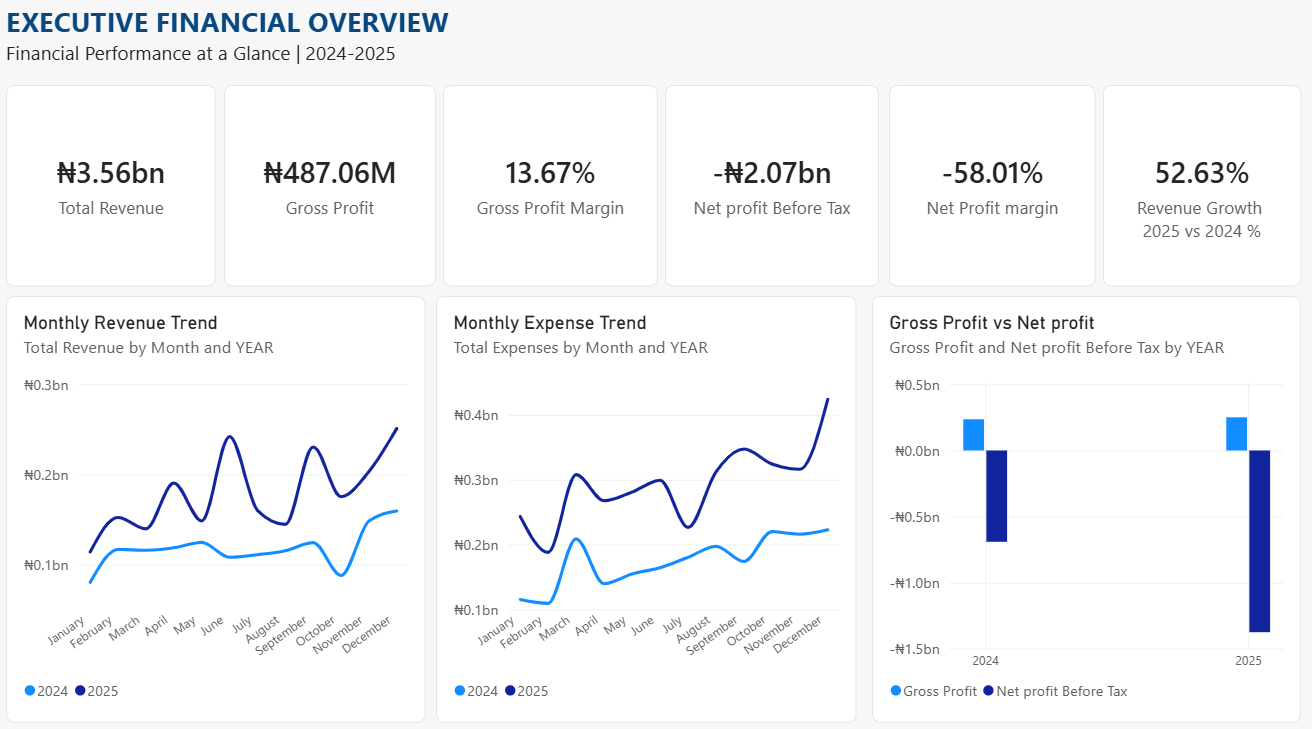

What the dashboard file says about the page in this screenshot:
{"tool":"powerbi","page":{"name":"Executive Dashboard","canvas":[1280,720],"ordinal":1},"visuals":[{"type":"card","fields":{"Values":["FactFinancialTransactions.Total Revenue"]},"box":[5.8,91.4,204.3,195.5],"z":0},{"type":"card","fields":{"Values":["FactFinancialTransactions.Net profit Before Tax"]},"box":[646.8,91.4,208.1,195.5],"z":1000},{"type":"card","fields":{"Values":["FactFinancialTransactions.Gross Profit"]},"box":[217.9,91.4,206.2,195.5],"z":2000},{"type":"card","fields":{"Values":["FactFinancialTransactions.Gross Profit Margin"]},"box":[430.9,91.4,209.1,195.5],"z":3000},{"type":"card","fields":{"Values":["FactFinancialTransactions.Net Profit margin"]},"box":[864.7,91.4,201.3,195.5],"z":4000},{"type":"lineChart","title":"Monthly Revenue Trend","fields":{"Category":["DimDate.Month"],"Series":["DimDate.YEAR"],"Y":["FactFinancialTransactions.Total Revenue"]},"box":[5.8,296.7,408,415],"z":5000},{"type":"lineChart","title":"Monthly Expense Trend","fields":{"Category":["DimDate.Month"],"Series":["DimDate.YEAR"],"Y":["FactFinancialTransactions.Total Expenses"]},"box":[424.1,296.7,409,415],"z":6000},{"type":"clusteredColumnChart","title":"Gross Profit vs Net profit","fields":{"Category":["DimDate.YEAR"],"Y":["FactFinancialTransactions.Gross Profit","FactFinancialTransactions.Net profit Before Tax"]},"box":[848.1,296.7,417,415],"z":7000},{"type":"card","fields":{"Values":["FactFinancialTransactions.Revenue Growth 2025 vs 2024 %"]},"box":[1072.8,91.4,192.6,195.5],"z":8000},{"type":"textbox","box":[5.8,10.7,570,80.7],"z":9000}]}

Visuals, with their boxes in screenshot pixels (x1, y1, x2, y2), scaled from the page's 1280x720 canvas onto the 1312x729 screenshot:
card - FactFinancialTransactions.Total Revenue: 6/93/215/290
card - FactFinancialTransactions.Net profit Before Tax: 663/93/876/290
card - FactFinancialTransactions.Gross Profit: 223/93/435/290
card - FactFinancialTransactions.Gross Profit Margin: 442/93/656/290
card - FactFinancialTransactions.Net Profit margin: 886/93/1093/290
"Monthly Revenue Trend" lineChart: 6/300/424/721
"Monthly Expense Trend" lineChart: 435/300/854/721
"Gross Profit vs Net profit" clusteredColumnChart: 869/300/1297/721
card - FactFinancialTransactions.Revenue Growth 2025 vs 2024 %: 1100/93/1297/290
textbox: 6/11/590/93
